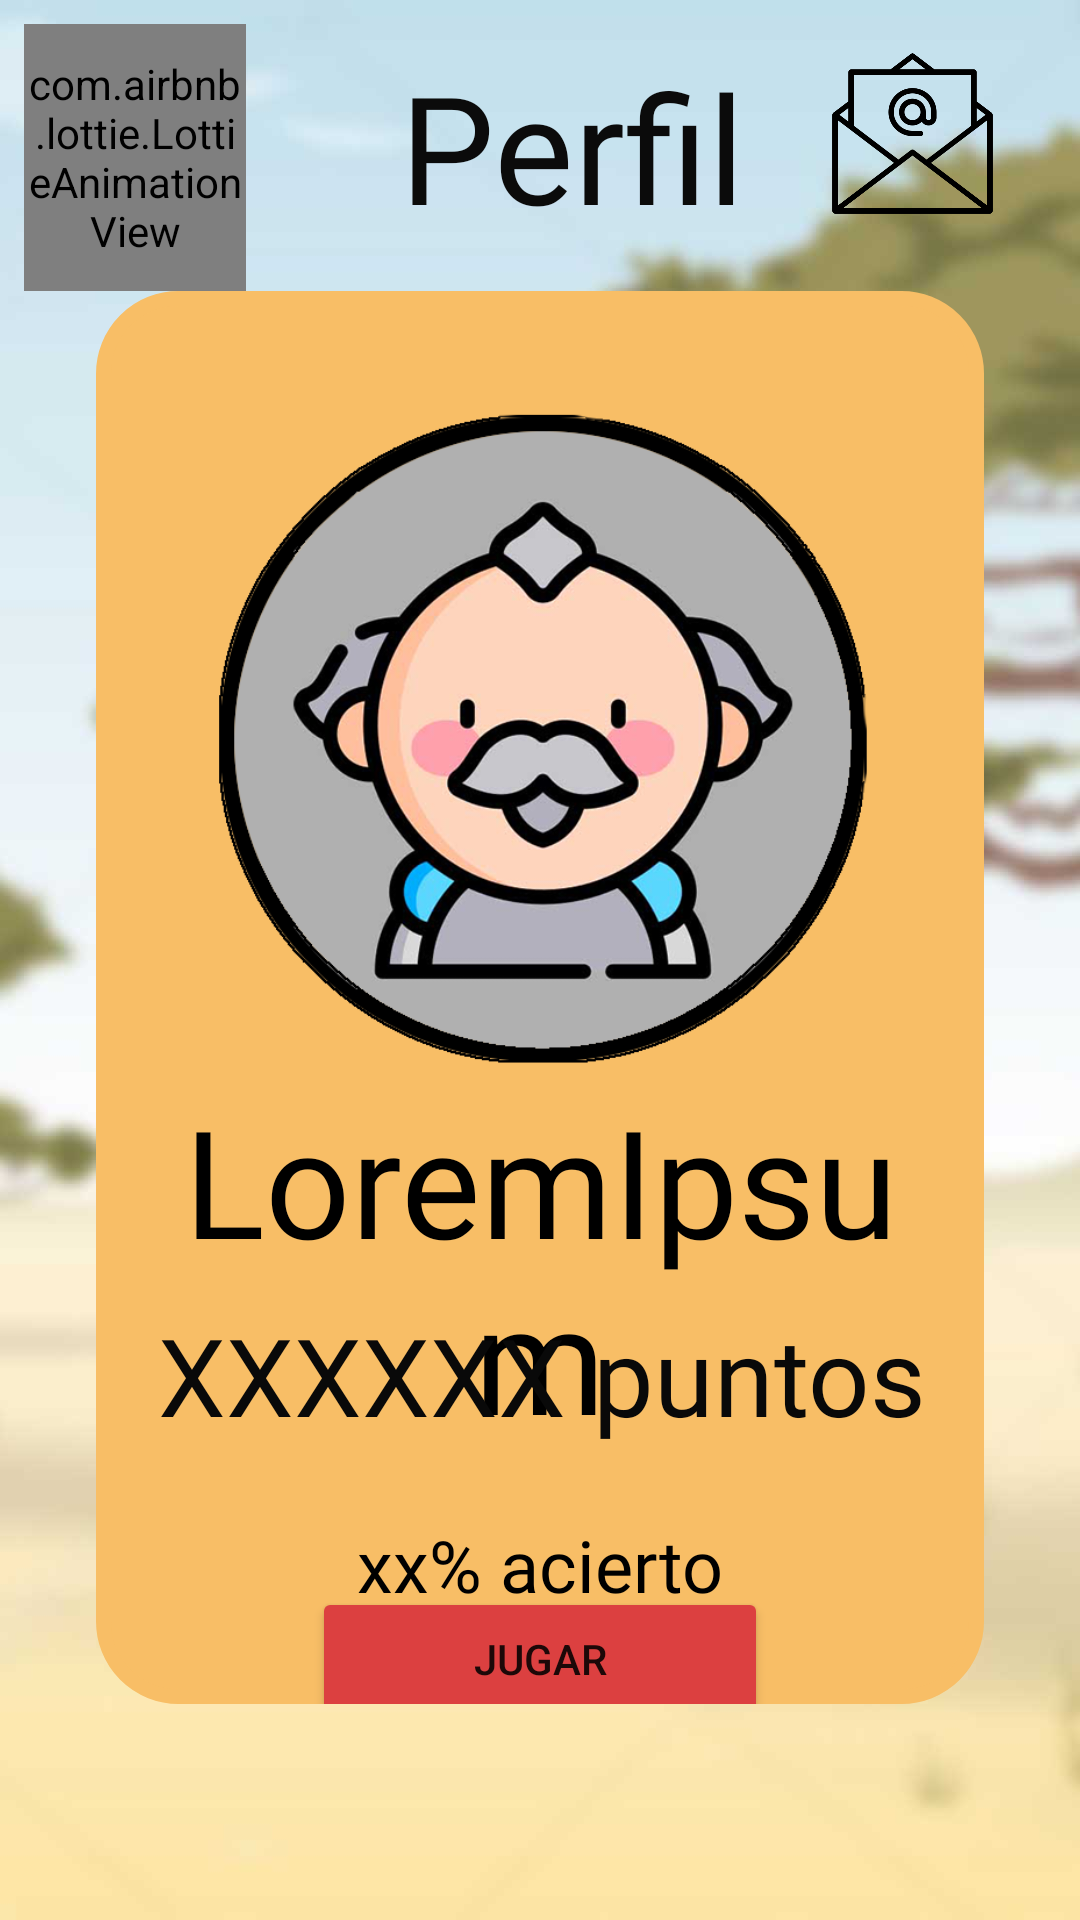

Named icons in this screenshot (1080px×1920px) and their bounding boxes, (x1, y1, x2, y2):
email: (816, 53, 1032, 219)
